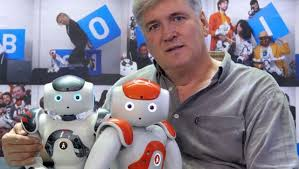nao: (85, 72, 189, 169), (17, 76, 98, 169)
